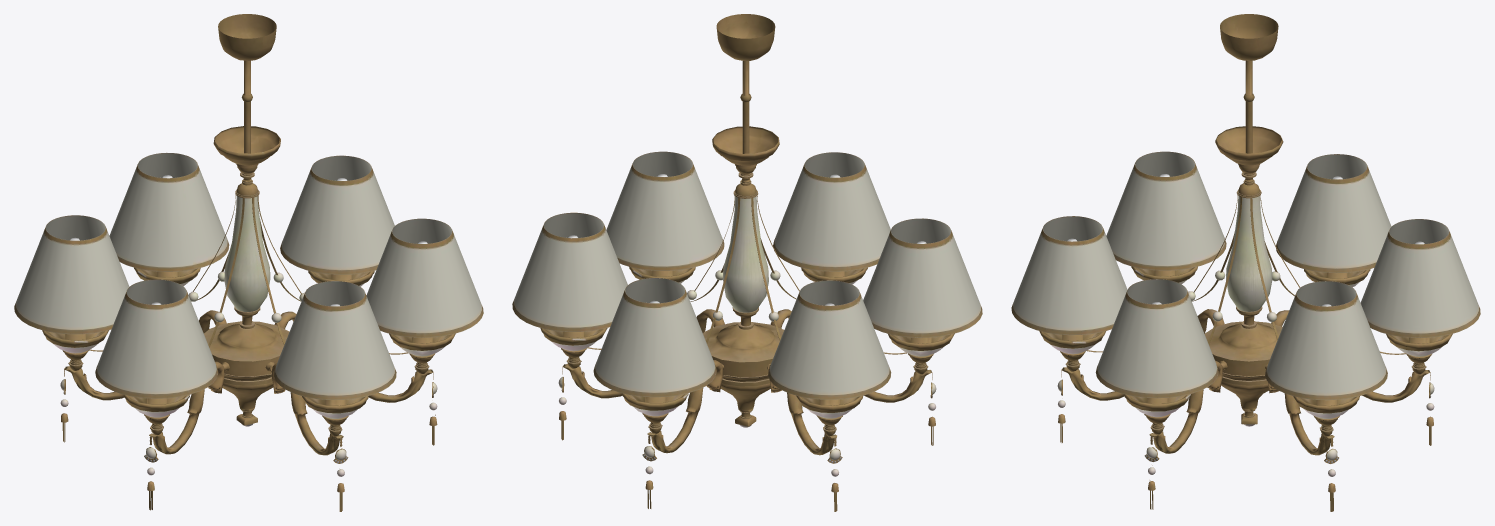
The model's file is chandelier_01.glb.
3 views of the same model, side by side, from view 1: azimuth 30°, elevation 25°; view 2: azimuth 150°, elevation 25°; view 3: azimuth 270°, elevation 25° (orthographic).
Parts seen in each view (by area): view 1: Chandelier_01; view 2: Chandelier_01; view 3: Chandelier_01.
Boxes of the visible parts, <box> form: Chandelier_01: <box>14,14,483,511</box>; Chandelier_01: <box>512,14,982,511</box>; Chandelier_01: <box>1011,14,1480,511</box>.
Size of the model in its own units: 0.7465 by 0.7983 by 0.8155.
Materials: 2 (1 with a texture image).
